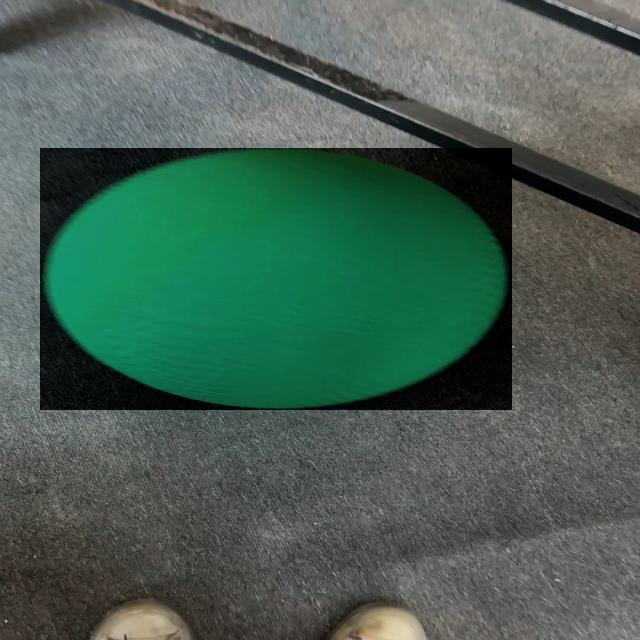Algae: (40, 148, 512, 410)
